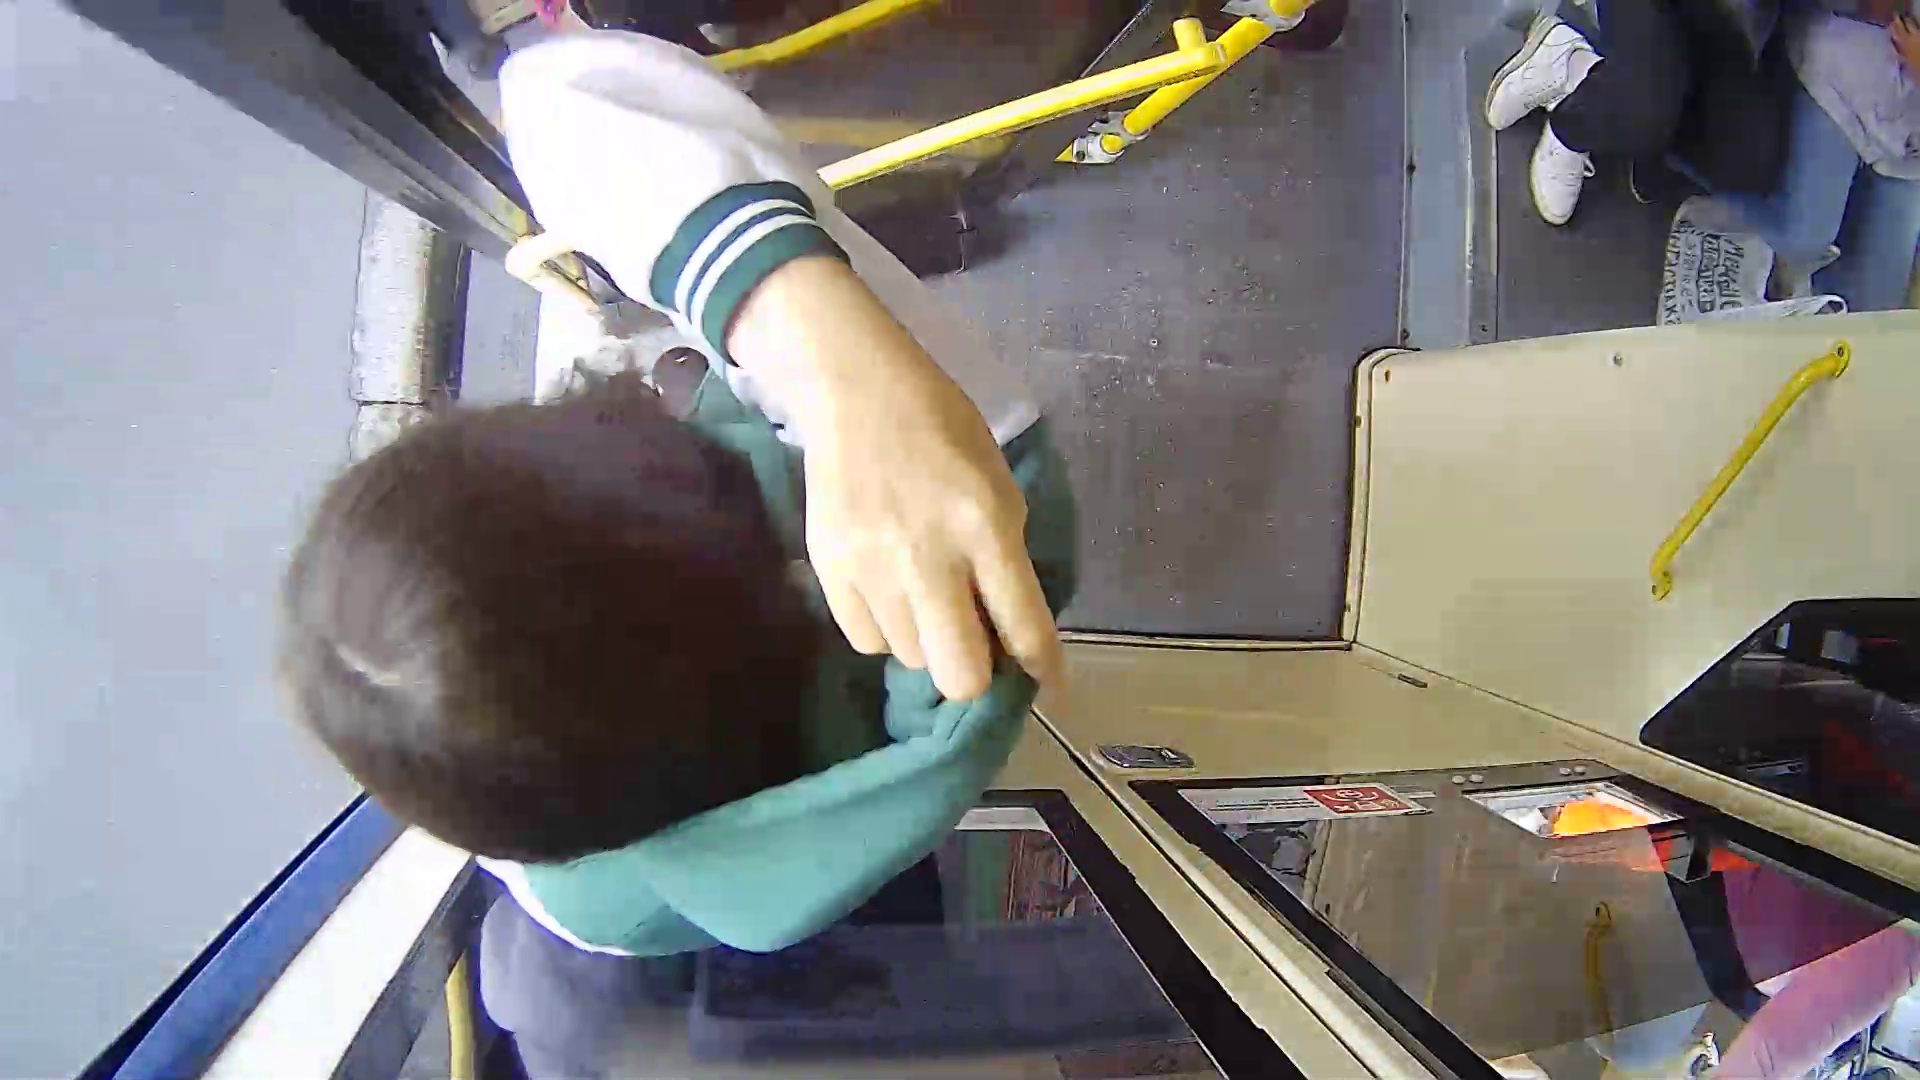person: (221, 56, 1211, 945)
